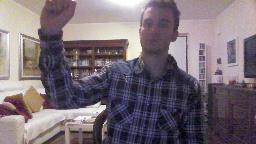Pugno: (38, 0, 77, 35)
